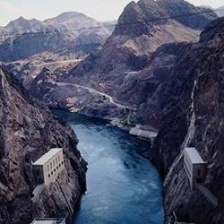neutral: (3, 8, 224, 209)
